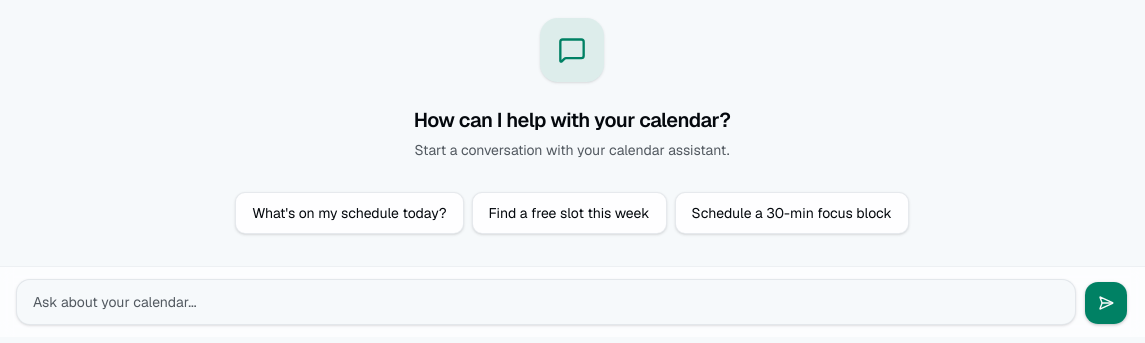
Scenario: ChatShell › should display messages after sending
This screenshot has width=1145, height=343.
Step 1. Type "hello" into the text box named "chat message" → {"x": 546, "y": 302}, box [16, 279, 1076, 325]
Then press Enter
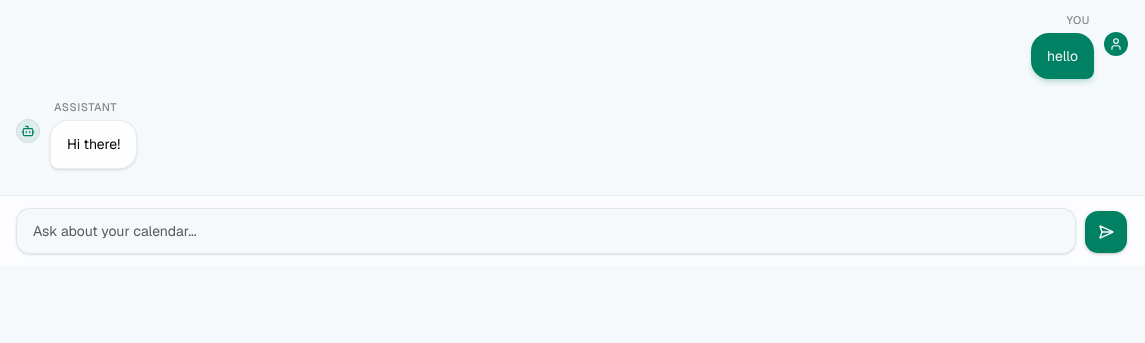
Result: the text "hello" is shown at [1047, 46, 1078, 64]
Result: the text "Hi there!" is shown at [67, 135, 120, 153]
